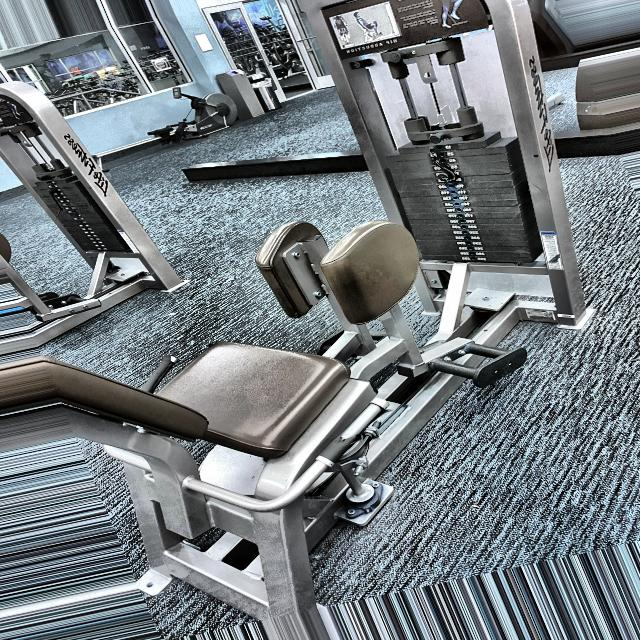hip_adduction_machine: (190, 162, 463, 496), (330, 0, 492, 58), (344, 34, 400, 56)
